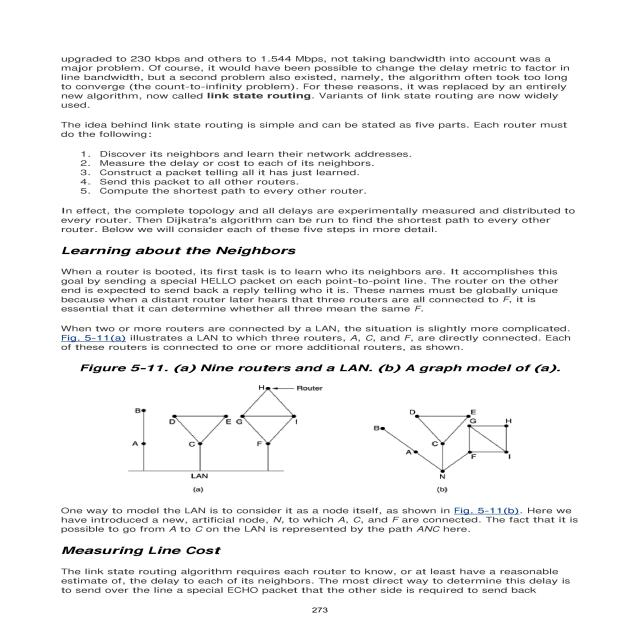diagram: (41, 353, 594, 498)
